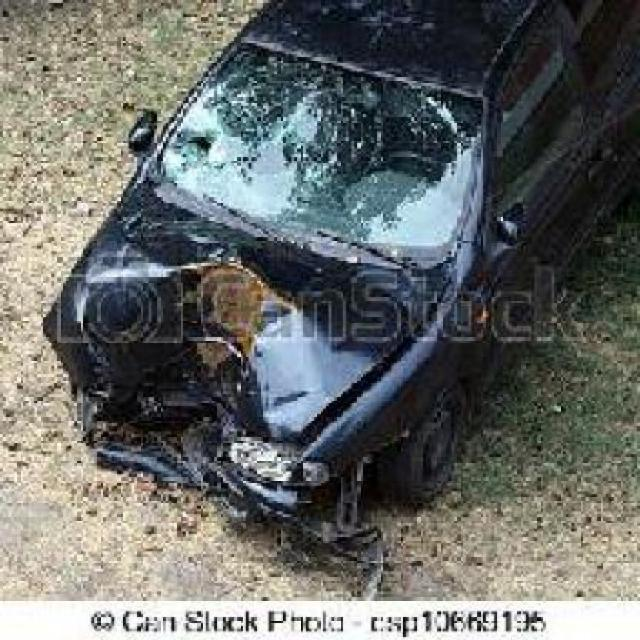damaged-hood: (71, 188, 424, 437)
damaged-windscreen: (160, 41, 476, 252)
